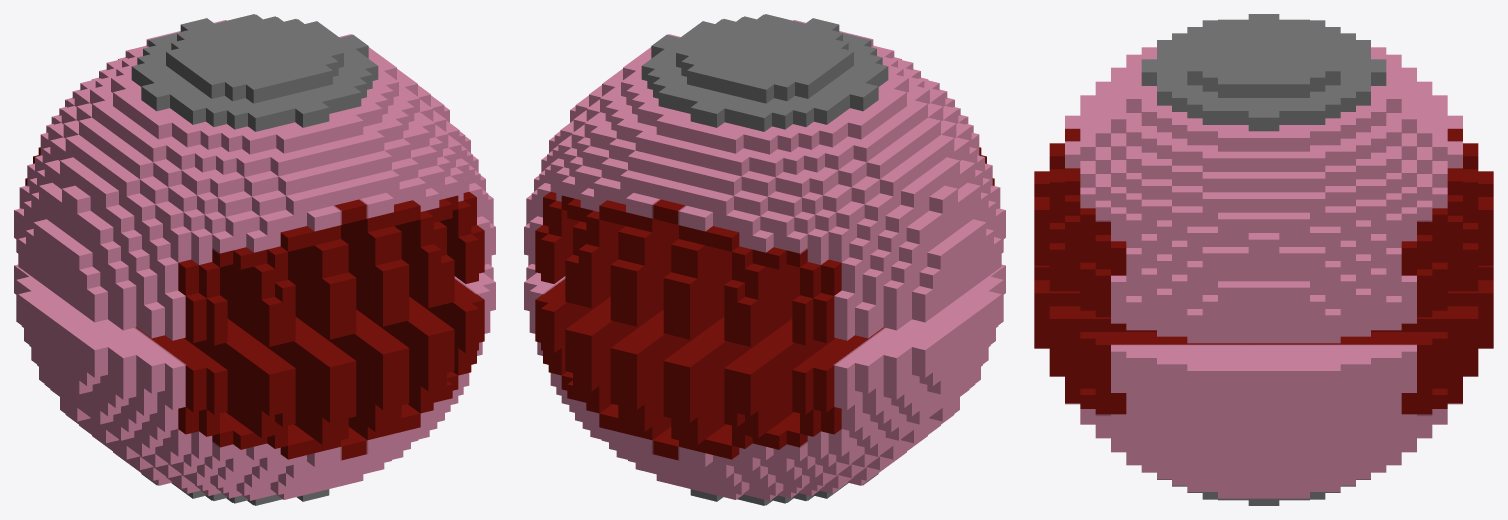
Rendered from Character_19.fbx.
3 renders of one model, left to right at view 1: azimuth 30°, elevation 25°; view 2: azimuth 150°, elevation 25°; view 3: azimuth 270°, elevation 25°, orthographic.
Parts seen in each view (by area): view 1: Character_19; view 2: Character_19; view 3: Character_19.
Part boxes in pixels (x1,y1,x2,y2): Character_19: (14,14,495,505); Character_19: (524,14,1005,505); Character_19: (1034,14,1493,505).
Bounding box in the file's own units: 30 × 30 × 30.
1 material, 1 textured.
